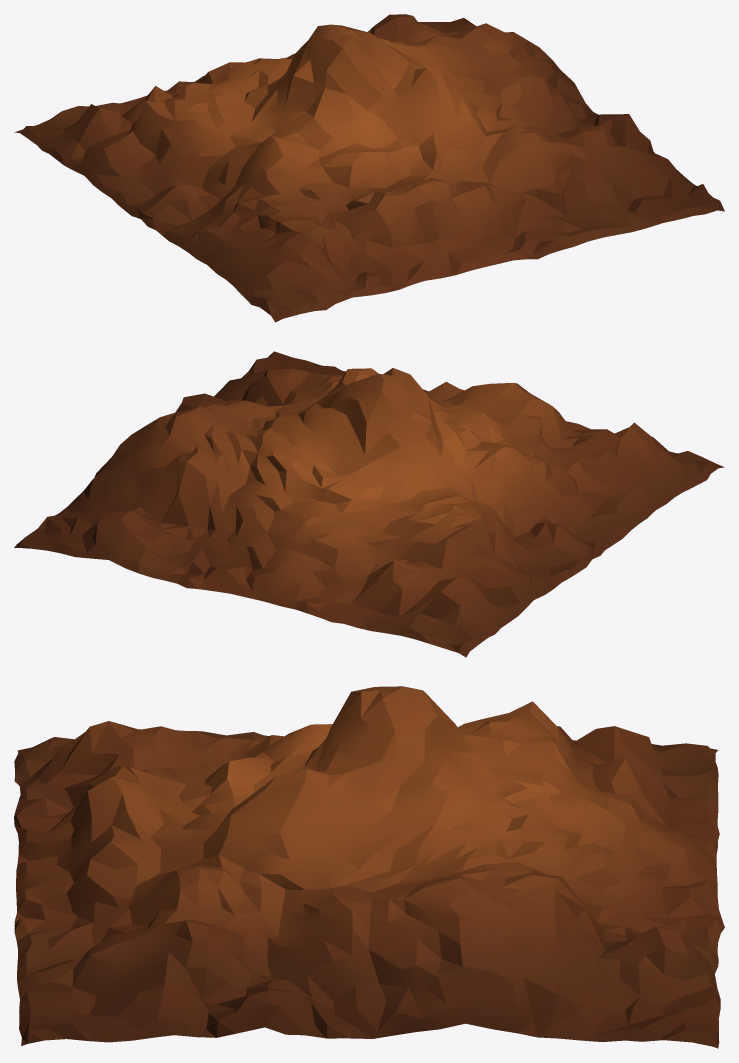
Rendered from hill_010.fbx.
3 renders of one model, top to bottom at view 1: azimuth 30°, elevation 25°; view 2: azimuth 150°, elevation 25°; view 3: azimuth 270°, elevation 25°, orthographic. The views are drawn at different scales.
Visible parts, largest first — view 1: hill.010; view 2: hill.010; view 3: hill.010.
Part boxes in pixels (box(x1,y1,x2,y2)): hill.010: box(14, 14, 724, 322); hill.010: box(14, 351, 724, 657); hill.010: box(14, 686, 724, 1048).
Size of the model in its own units: 5330 by 1614 by 5321.
